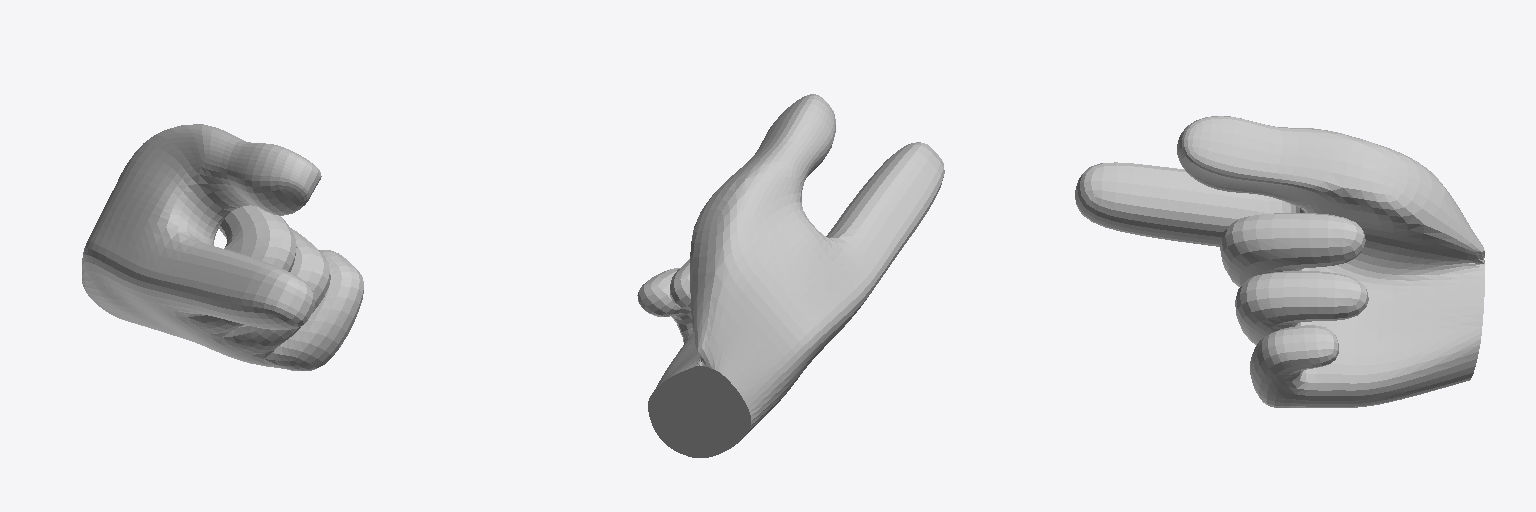
The picture shows the model from 3 angles: view 1: azimuth 30°, elevation 25°; view 2: azimuth 150°, elevation 25°; view 3: azimuth 270°, elevation 25°; orthographic projection.
Visible parts, largest first — view 1: G_HAND; view 2: G_HAND; view 3: G_HAND.
Boxes of the visible parts, <box> form: G_HAND: <box>82,124,363,370</box>; G_HAND: <box>637,94,944,457</box>; G_HAND: <box>1075,116,1484,407</box>.
Size of the model in its own units: 108 by 126 by 176.